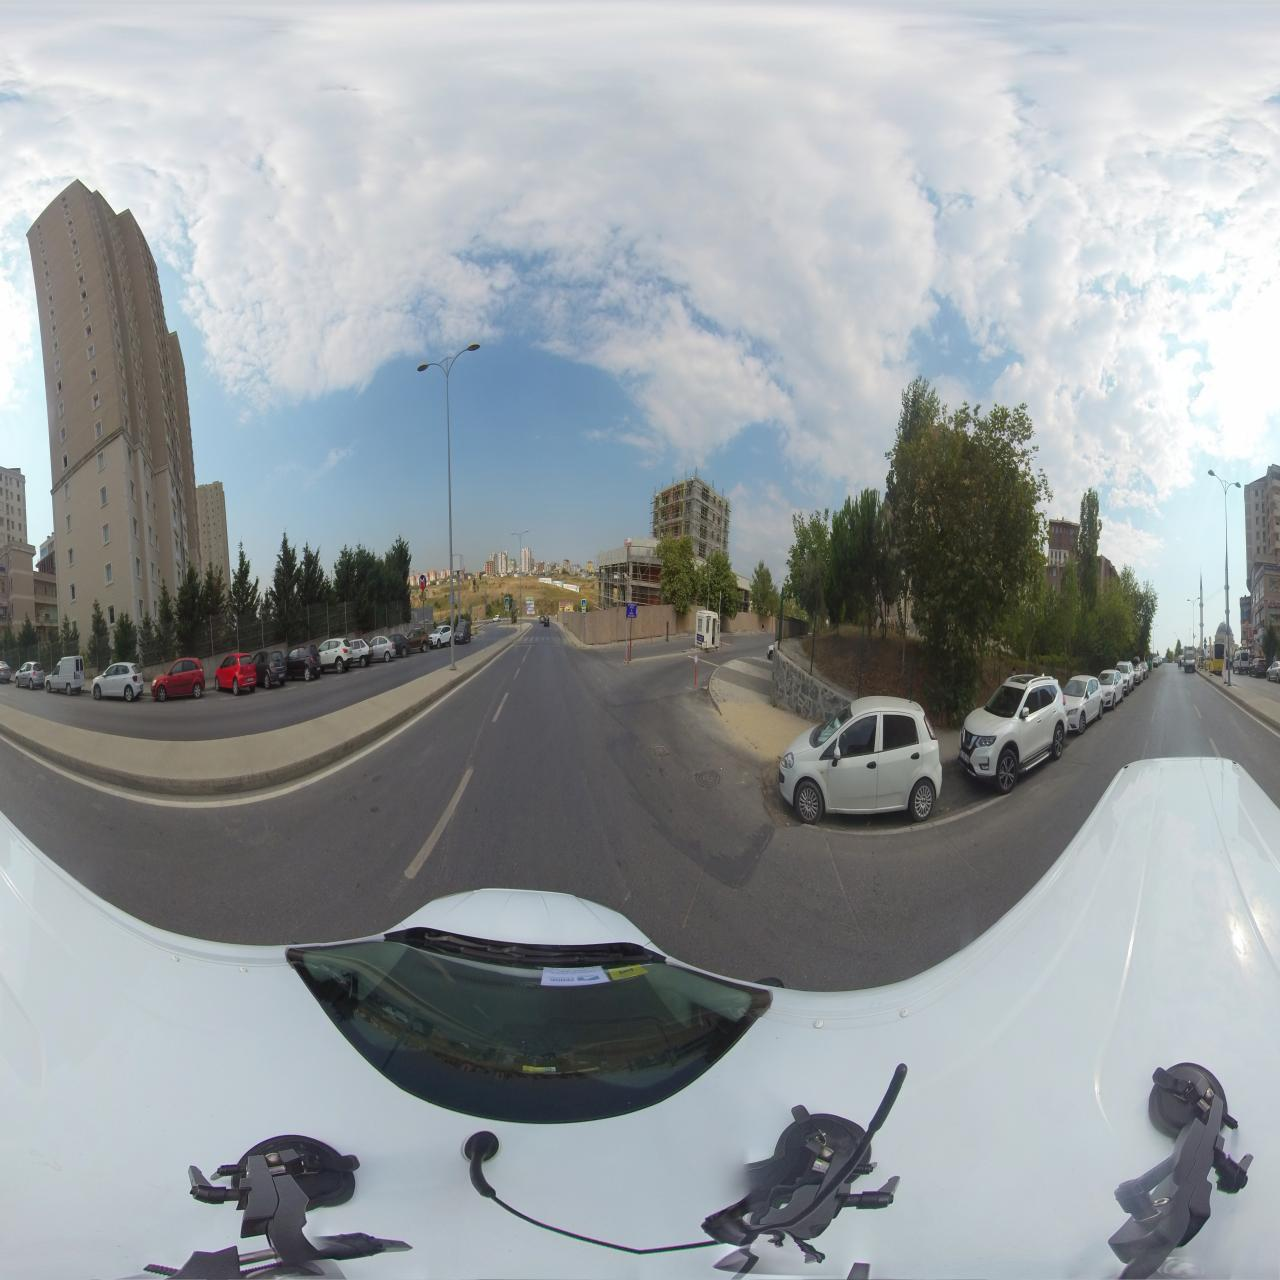SignStore: (1254, 601, 1264, 615), (1239, 597, 1251, 605), (1241, 622, 1253, 631), (1268, 600, 1280, 607), (1255, 628, 1261, 640)
